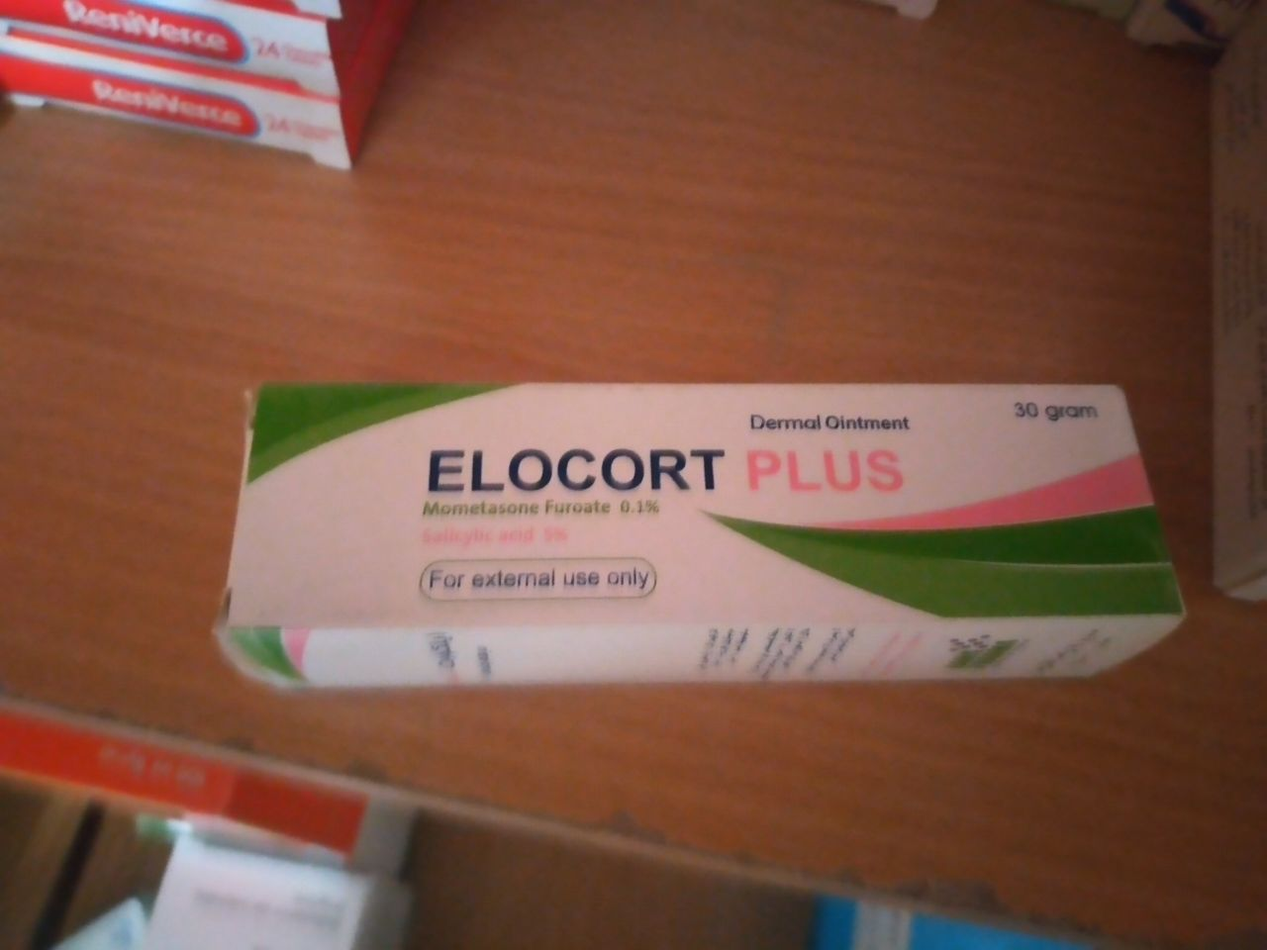Medicine: (220, 366, 1193, 693)
